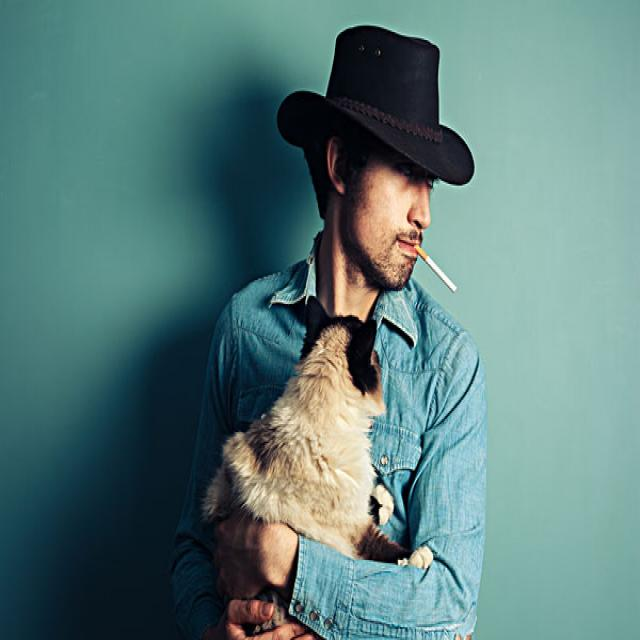smoking: (410, 240, 462, 296)
